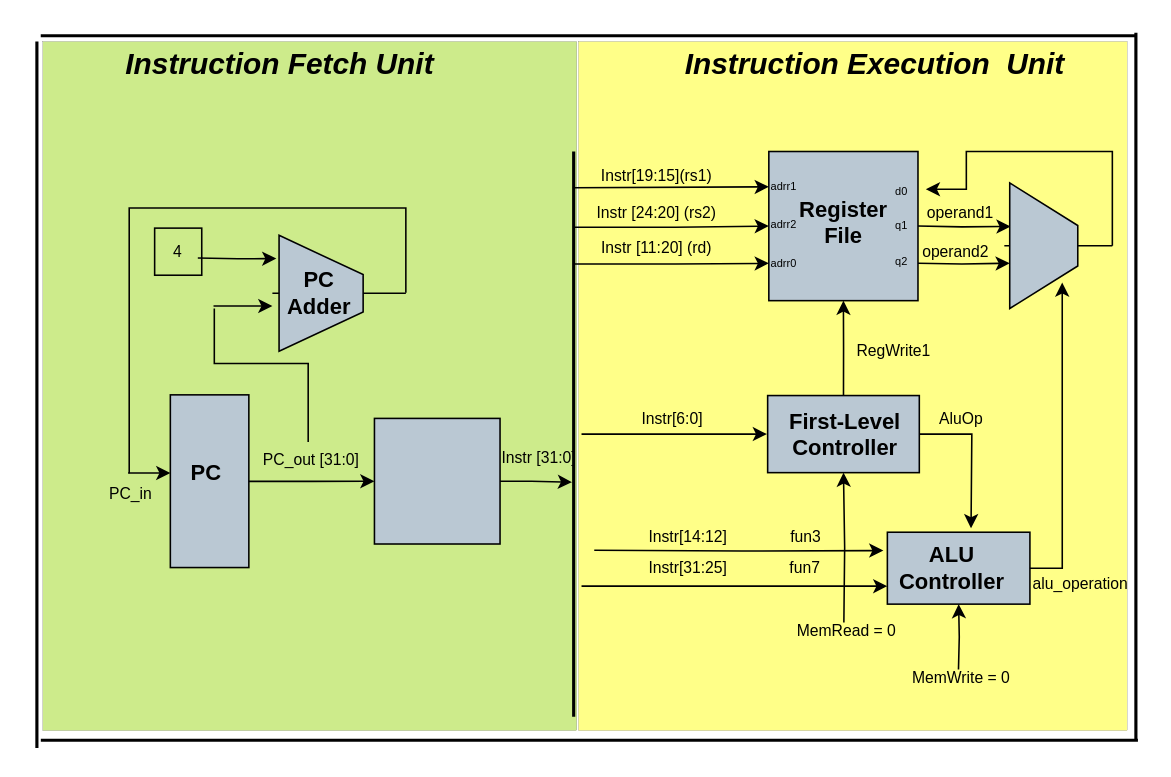
Image size: 1171x777. Some labels were removed from this diagram. The centre of each missing label's shape, as x and y in pixels:
ALU: pixel 1057 245
Instruction Memory: pixel 436 480
